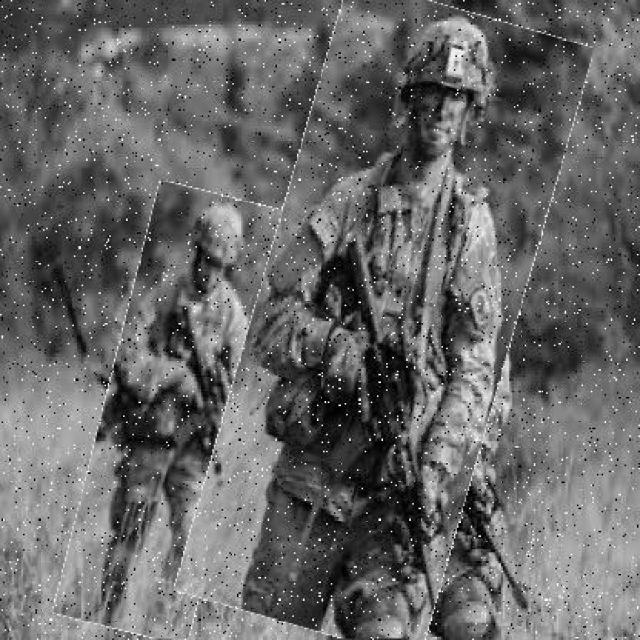Person: (216, 1, 554, 639), (80, 187, 271, 640)
